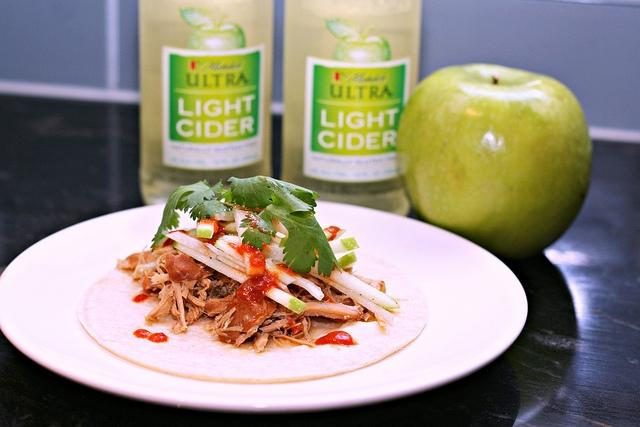apple: (397, 63, 592, 258), (324, 17, 392, 63), (178, 6, 246, 52)
